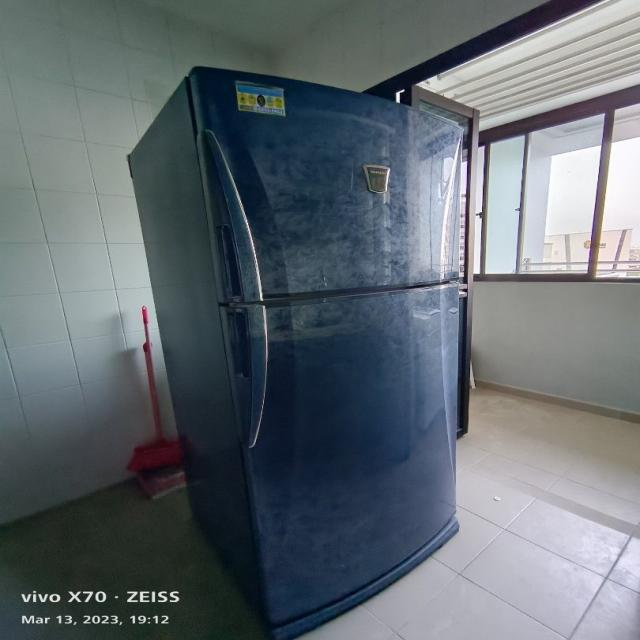refrigerator: (190, 64, 468, 639)
